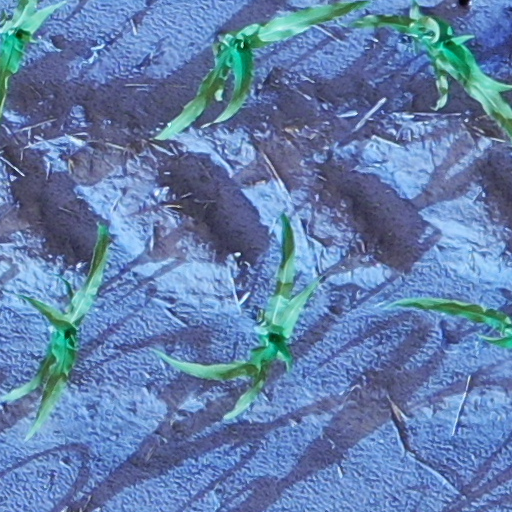planta: (161, 217, 317, 418), (4, 226, 109, 437), (387, 296, 511, 349)
